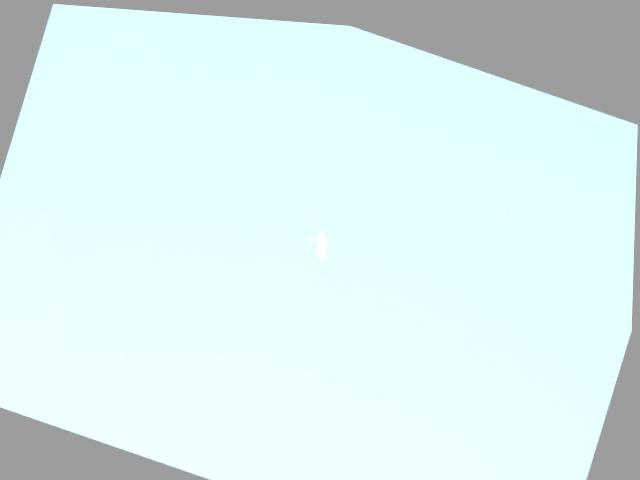iha: (296, 218, 344, 259)
